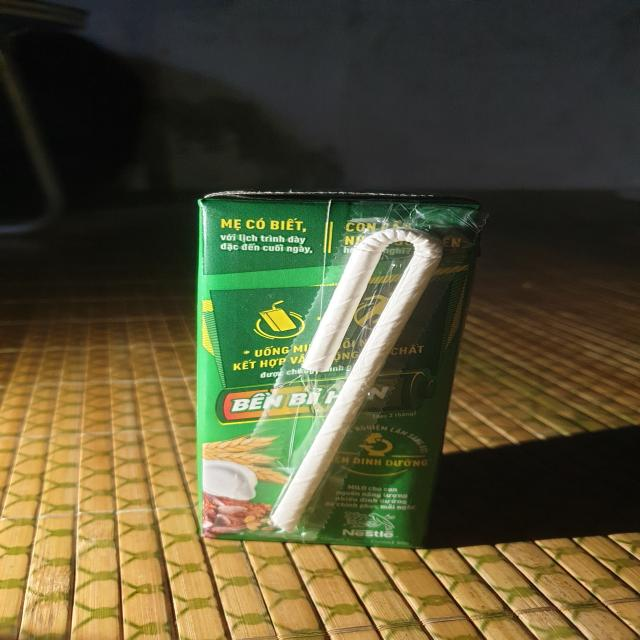Milo: (186, 185, 495, 554)
